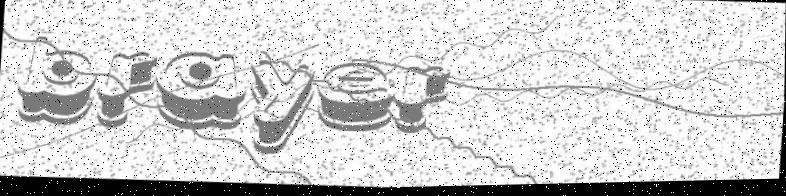a: (153, 50, 247, 135)
b: (13, 34, 100, 128)
e: (314, 61, 398, 138)
r: (95, 49, 158, 133), (396, 64, 452, 140)
y: (242, 58, 320, 160)
